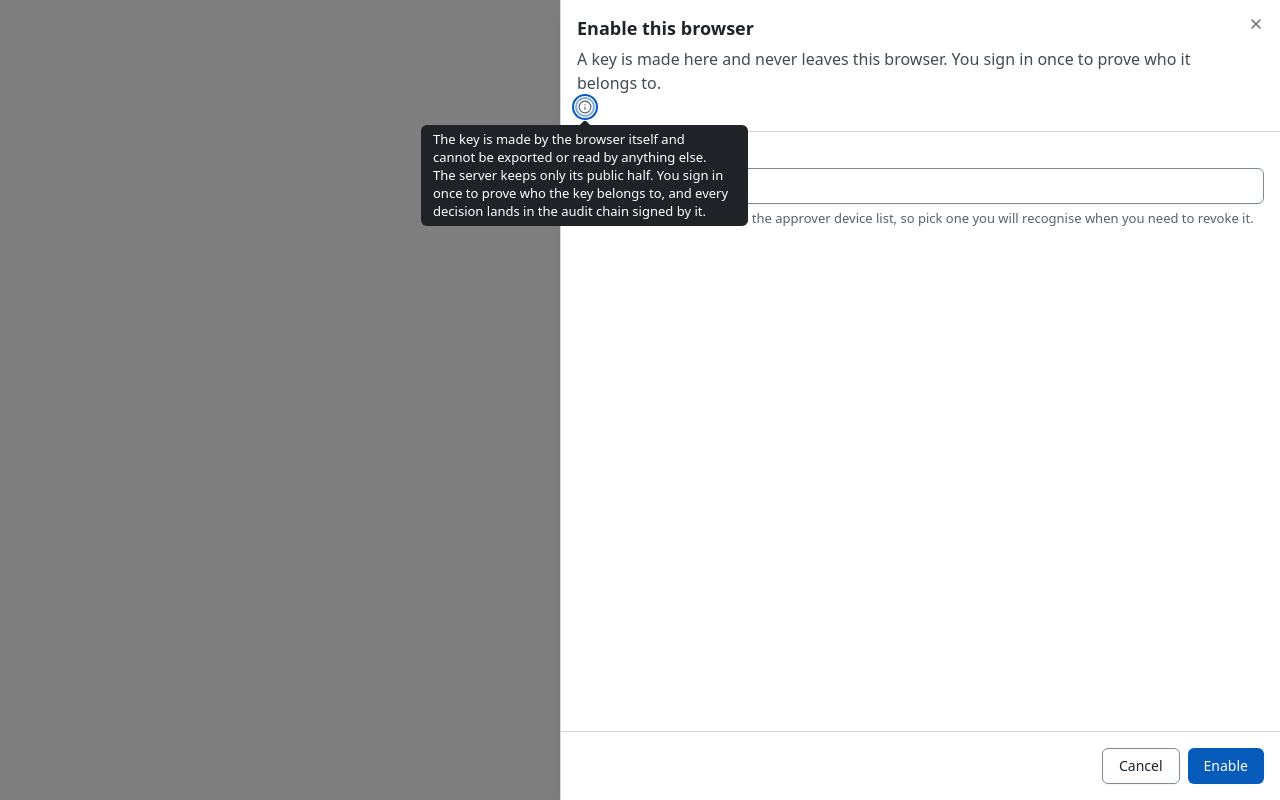
Scenario: the Enable this browser sheet › counts down a rate limited mint and offers the way back
Step 1. Click the button "Enable" → click(1226, 766), box [1188,748,1264,784]
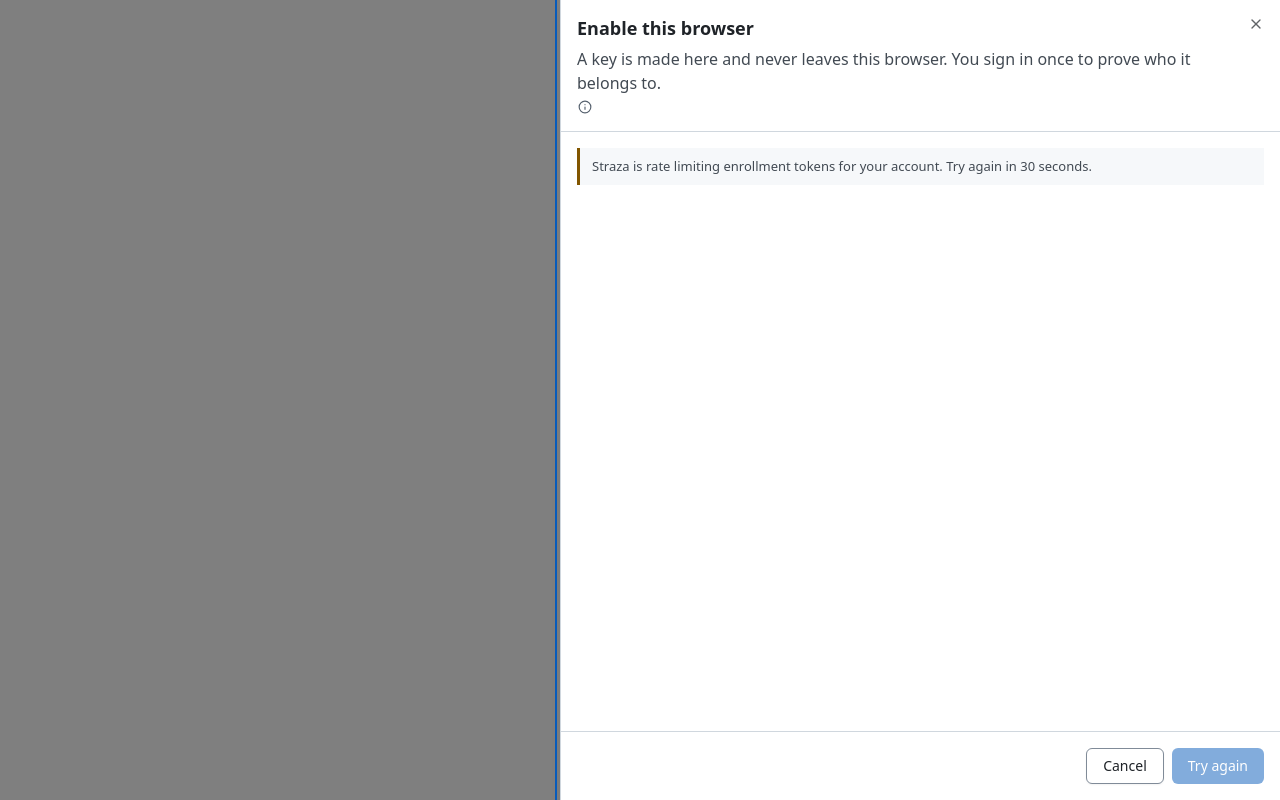
Now the button "Try again" is shown, box [1172,748,1264,784]
